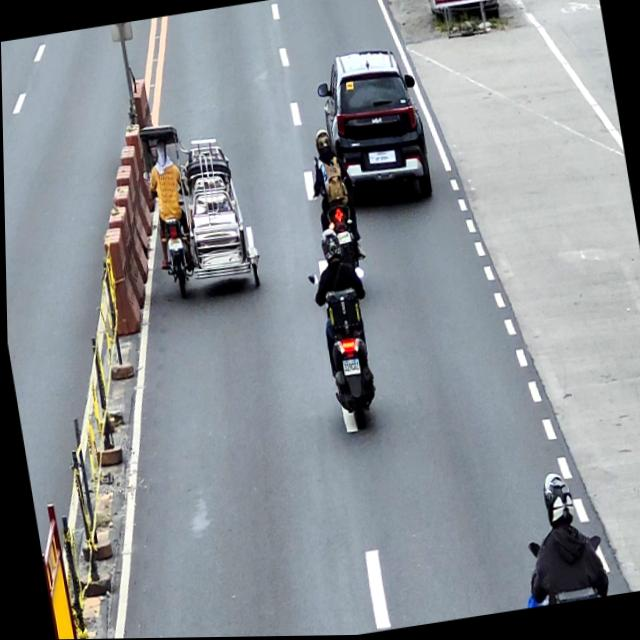Car: (312, 45, 434, 212)
License-Plate: (341, 358, 359, 377), (165, 236, 183, 251), (371, 151, 389, 166), (335, 231, 350, 246)
Motorcycle: (306, 266, 388, 433), (311, 153, 363, 274)
Tricycle: (137, 112, 263, 302)
